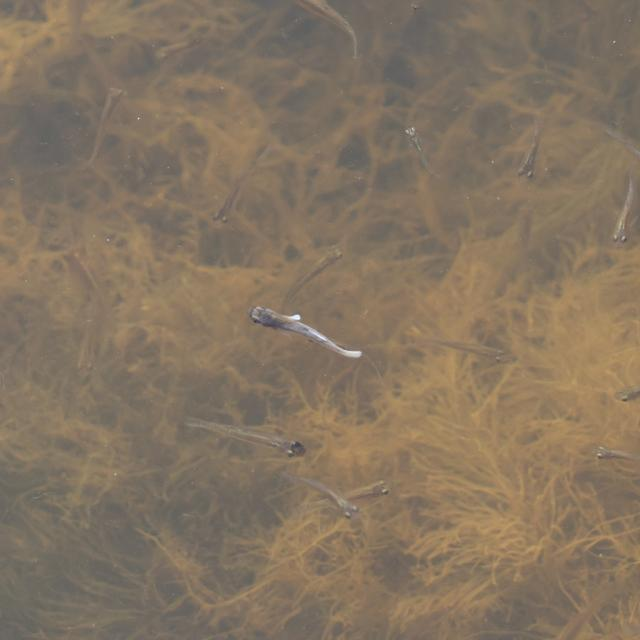Sivrisinek Baligi: (242, 297, 364, 364), (287, 470, 368, 527), (184, 419, 306, 453), (68, 292, 108, 386), (83, 80, 121, 168), (430, 334, 522, 369), (588, 427, 640, 477), (405, 122, 443, 177), (512, 124, 548, 180), (612, 174, 634, 251)
